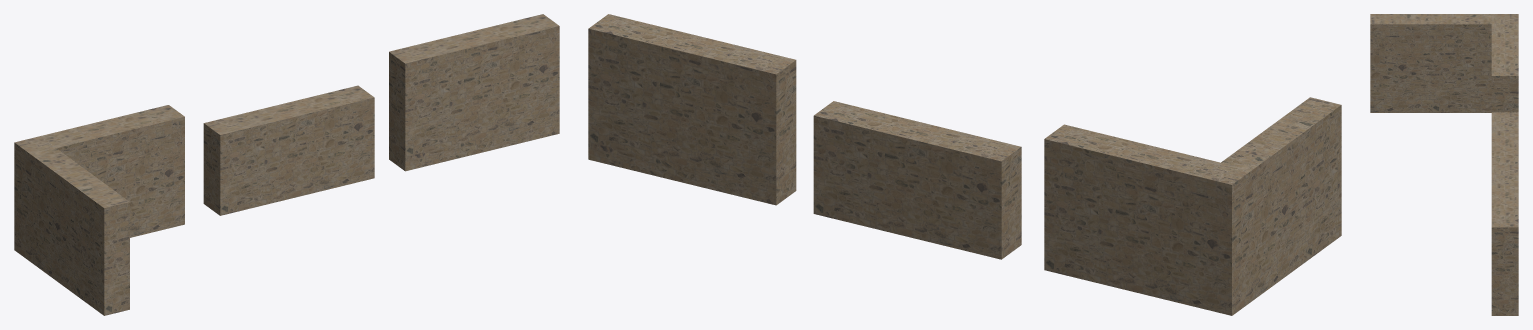
Rendered from stone_bricks_beige_wall-set.glb.
The picture shows the model from 3 angles, left to right: view 1: azimuth 30°, elevation 25°; view 2: azimuth 150°, elevation 25°; view 3: azimuth 270°, elevation 25°; orthographic projection. The views are drawn at different scales.
Parts seen in each view (by area): view 1: Cube_2, Cube, Cube_1; view 2: Cube_2, Cube, Cube_1; view 3: Cube_2, Cube, Cube_1.
Part boxes in pixels (x1,y1,x2,y2): Cube_2: (14,105,184,315); Cube: (389,14,559,171); Cube_1: (203,85,374,215); Cube_2: (1044,97,1341,315); Cube: (588,14,796,205); Cube_1: (813,101,1021,259); Cube_2: (1370,14,1518,112); Cube: (1491,165,1518,315); Cube_1: (1491,112,1518,164).
Bounding box in the file's own units: 6.27 × 1.23 × 1.84.
Materials: 1 (1 with a texture image).
